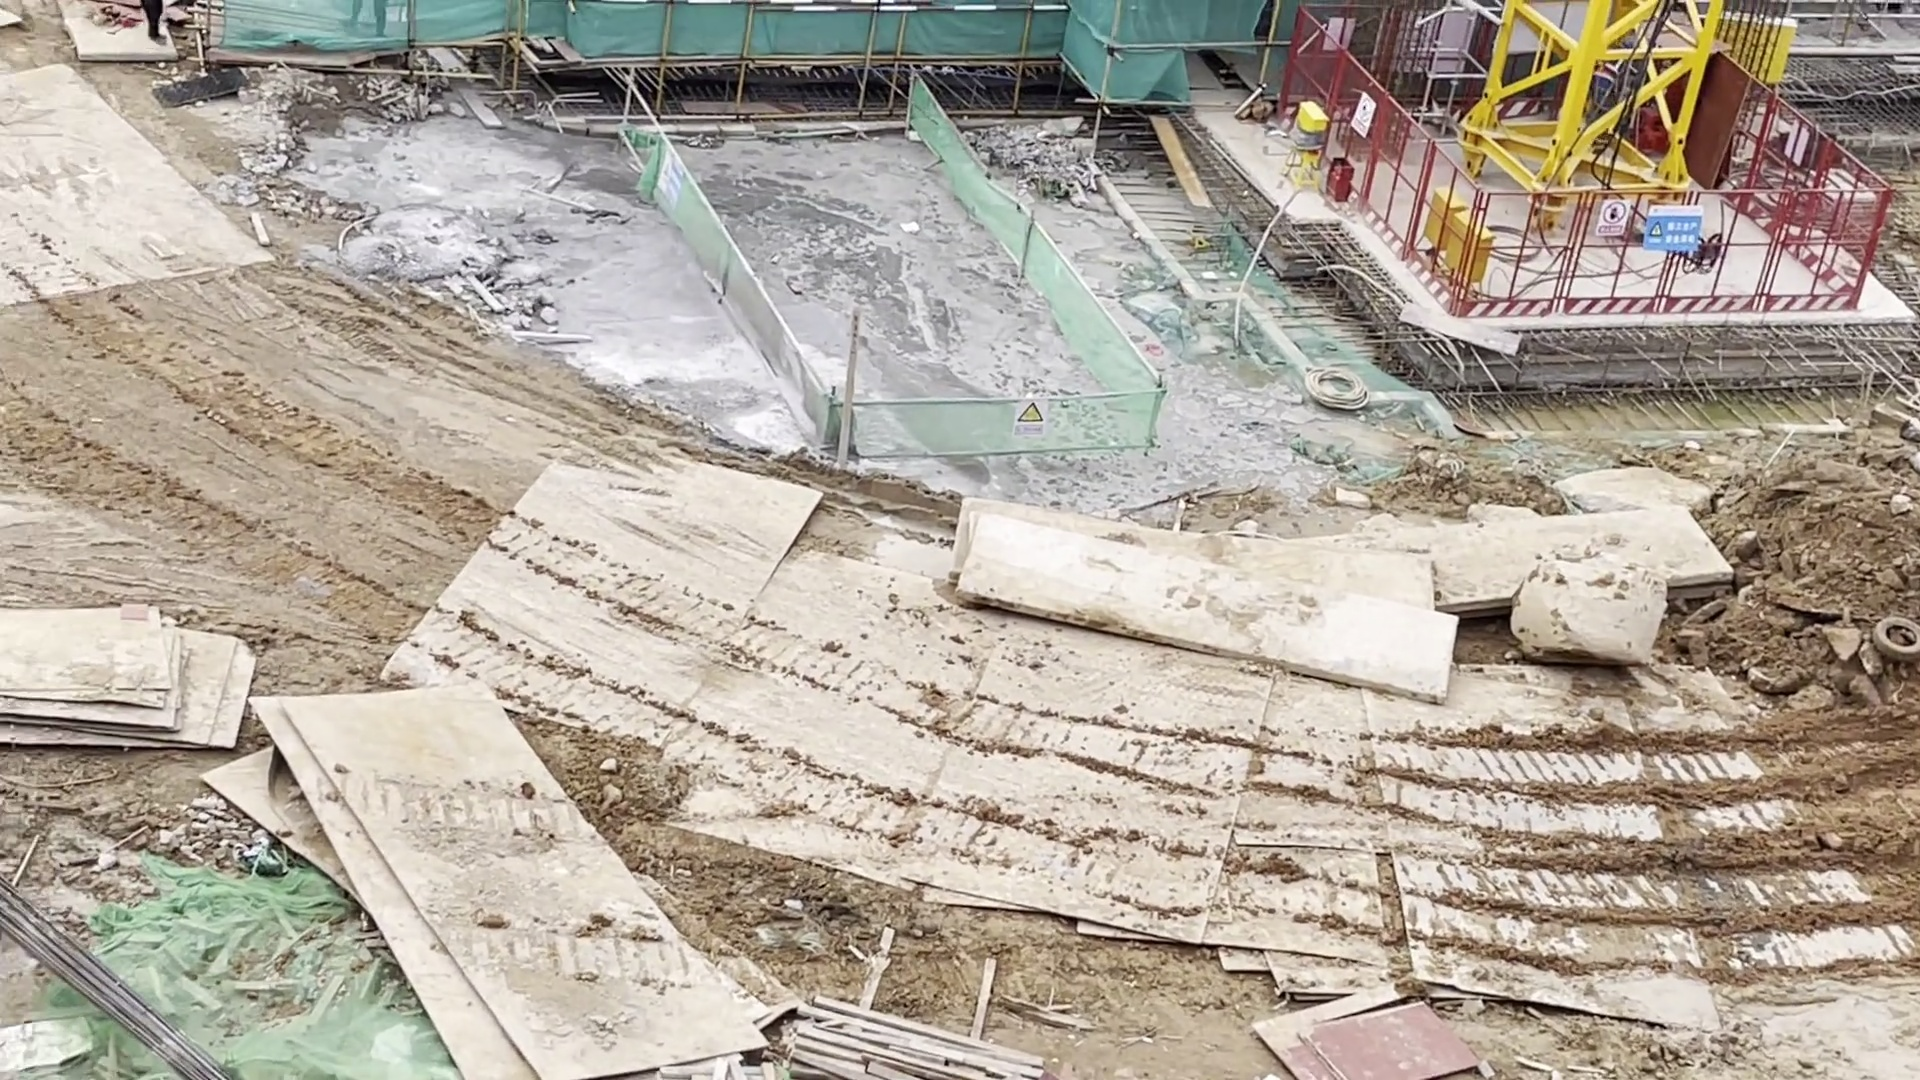ebox: (1427, 185, 1491, 291), (1294, 100, 1331, 193)
fence: (1283, 3, 1895, 327)
slogan: (1642, 208, 1702, 249), (655, 158, 686, 208), (1014, 398, 1048, 436), (1596, 200, 1629, 236)
